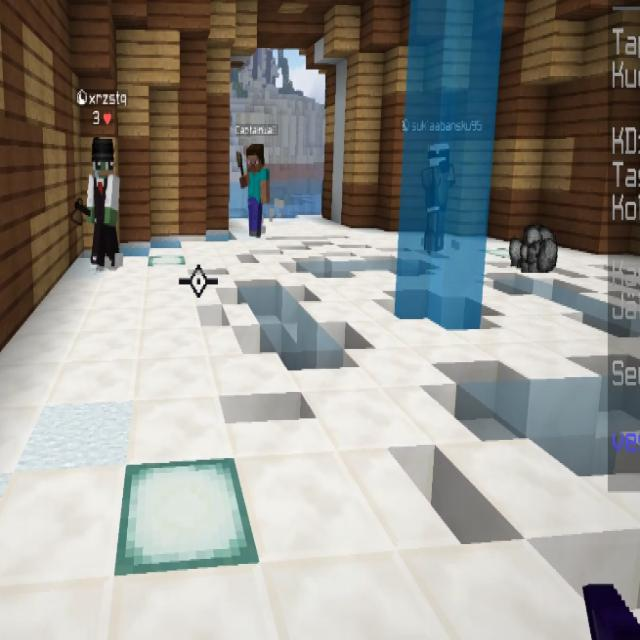Player: (82, 137, 122, 270), (421, 141, 454, 251), (238, 143, 270, 241)
